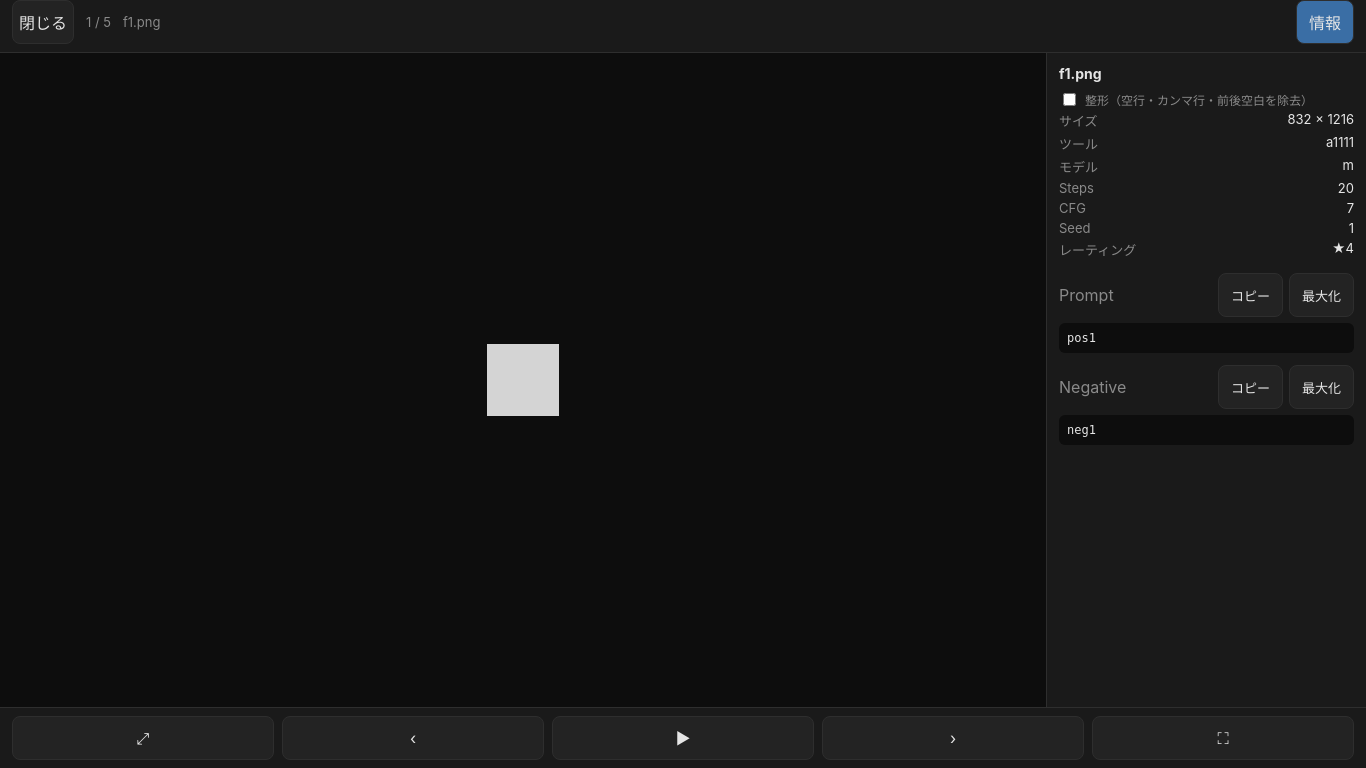
Test: Viewer の情報パネル › コピーで表示中のテキストを書き込み、ボタンに結果を出す
The width and height of the screenshot is (1366, 768).
Expected: the text "pos1" is shown, [1059, 323, 1354, 353]
Click the button with aria-label "Promptをコピー".
click(1250, 295)  # box [1218, 273, 1283, 317]
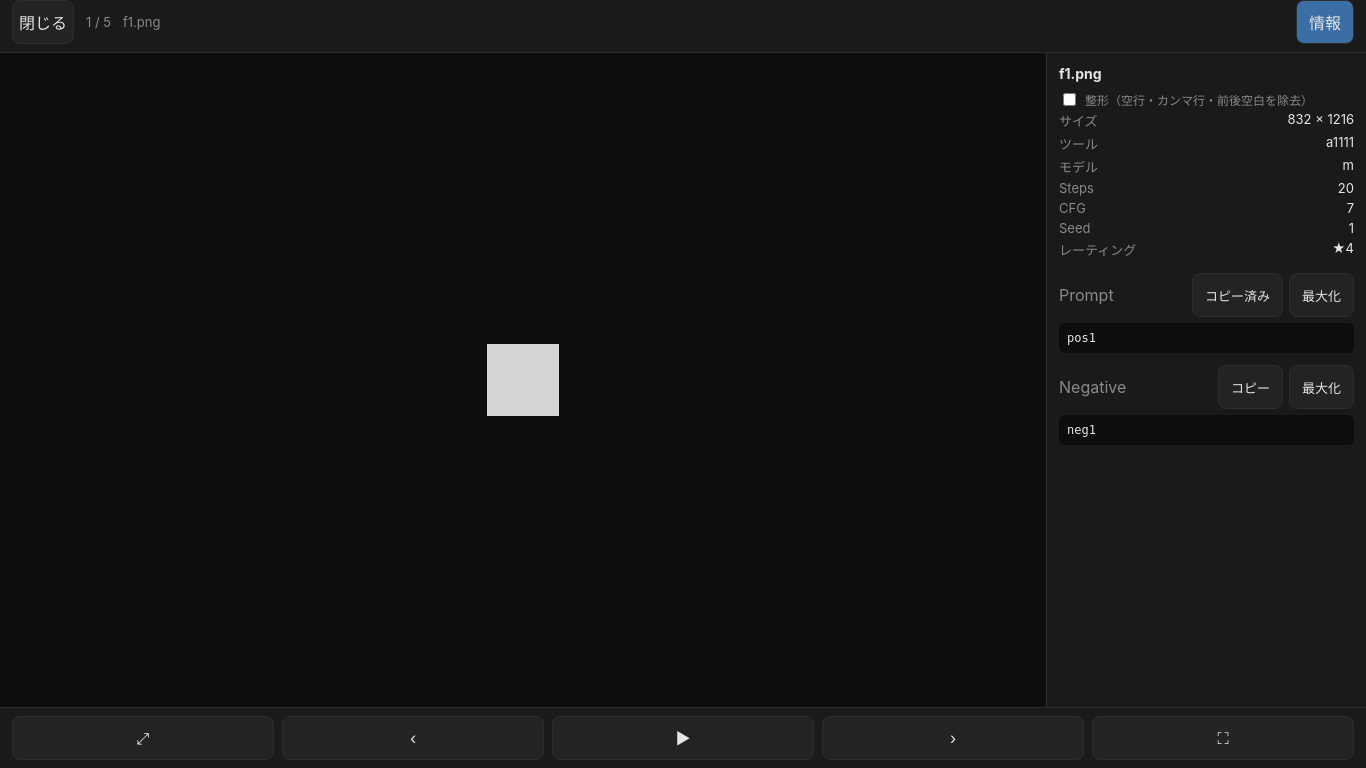
Now the button "コピー済み" is shown, box [1192, 273, 1283, 317]
